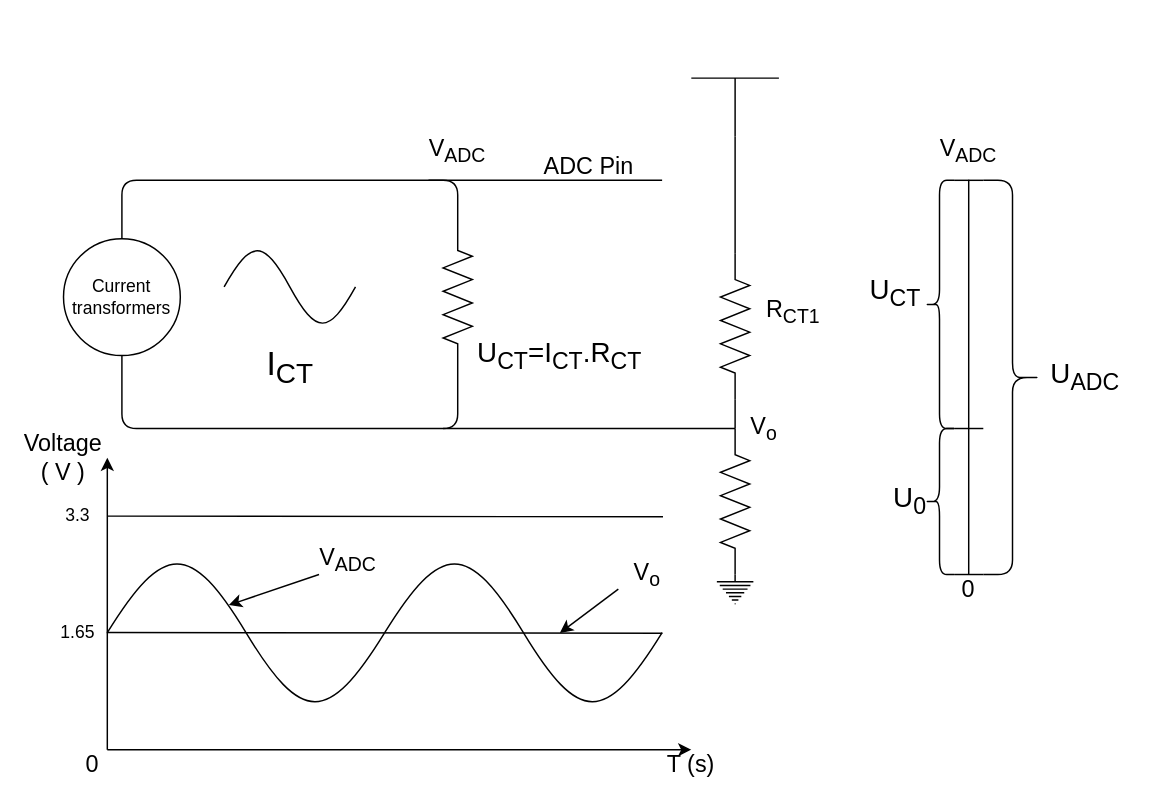
Image size: 1155x804. Some labels were removed from this diagram. The shapes that lost their labels are listed below. From the top down, each one's centre as x and y in pixels, then its label:
At (734,107): "V dd".
At (457,296): "R CT".
At (734,501): "R CT2".
